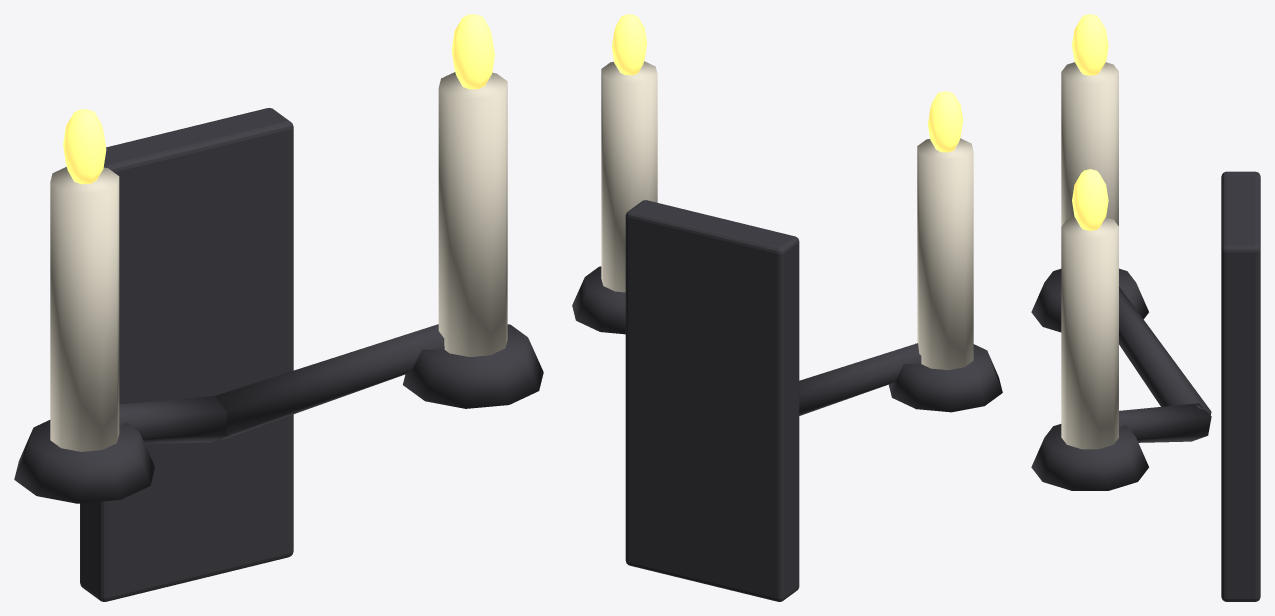
The model's file is sconce_iron_double.glb.
The picture shows the model from 3 angles, left to right: view 1: azimuth 30°, elevation 25°; view 2: azimuth 150°, elevation 25°; view 3: azimuth 270°, elevation 25°; orthographic projection. The views are drawn at different scales.
Parts seen in each view (by area): view 1: GD_sconce_iron_double__m0, GD_sconce_iron_double__m1, GD_sconce_iron_double__m2; view 2: GD_sconce_iron_double__m0, GD_sconce_iron_double__m1, GD_sconce_iron_double__m2; view 3: GD_sconce_iron_double__m0, GD_sconce_iron_double__m1, GD_sconce_iron_double__m2.
Part boxes in pixels (x1,y1,x2,y2): GD_sconce_iron_double__m0: (14,108,543,601); GD_sconce_iron_double__m1: (50,72,507,451); GD_sconce_iron_double__m2: (63,14,494,184); GD_sconce_iron_double__m0: (572,200,1002,601); GD_sconce_iron_double__m1: (601,61,973,370); GD_sconce_iron_double__m2: (612,14,962,152); GD_sconce_iron_double__m0: (1031,171,1260,601); GD_sconce_iron_double__m1: (1061,62,1118,449); GD_sconce_iron_double__m2: (1072,14,1108,230).
Bounding box in the file's own units: 0.3656 × 0.3986 × 0.175.
